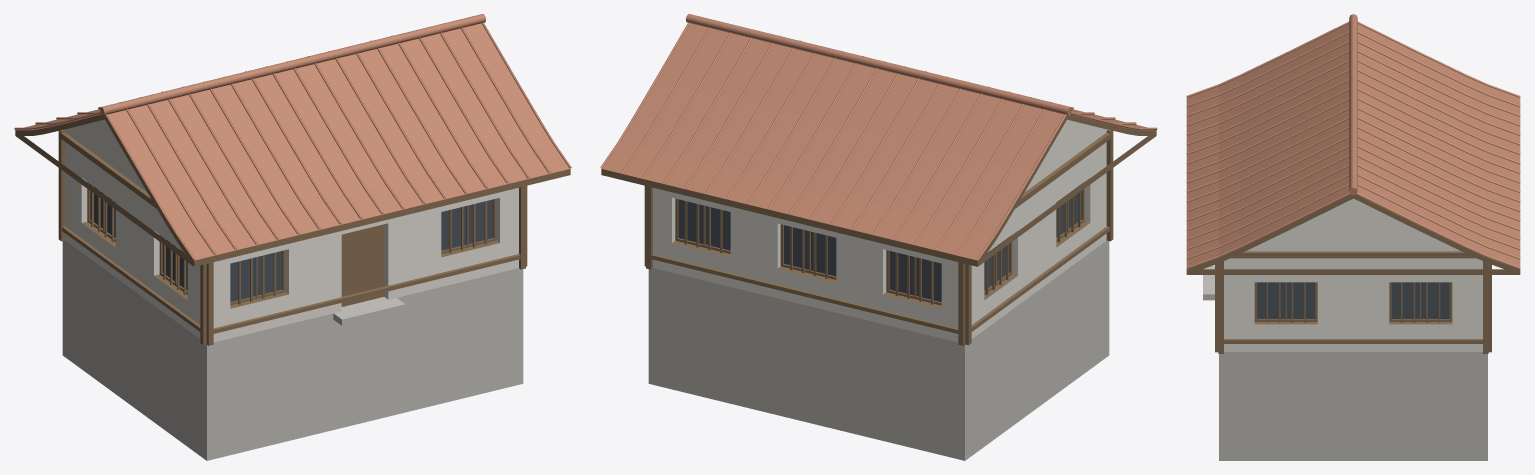
Rendered from japanese_house_1_s.glb.
The picture shows the model from 3 angles, left to right: view 1: azimuth 30°, elevation 25°; view 2: azimuth 150°, elevation 25°; view 3: azimuth 270°, elevation 25°; orthographic projection. The views are drawn at different scales.
Parts seen in each view (by area): view 1: japanese_house_1_s; view 2: japanese_house_1_s; view 3: japanese_house_1_s.
Part boxes in pixels (x1,y1,x2,y2): japanese_house_1_s: (14, 14, 571, 460); japanese_house_1_s: (600, 14, 1157, 460); japanese_house_1_s: (1186, 14, 1520, 460).
Bounding box in the file's own units: 11.46 × 8.86 × 9.33.
